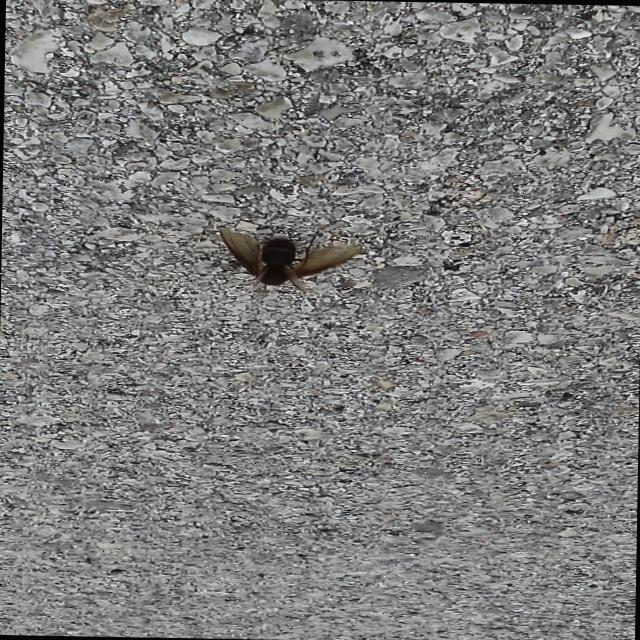Alive-Female-Alate: (206, 227, 362, 296)
